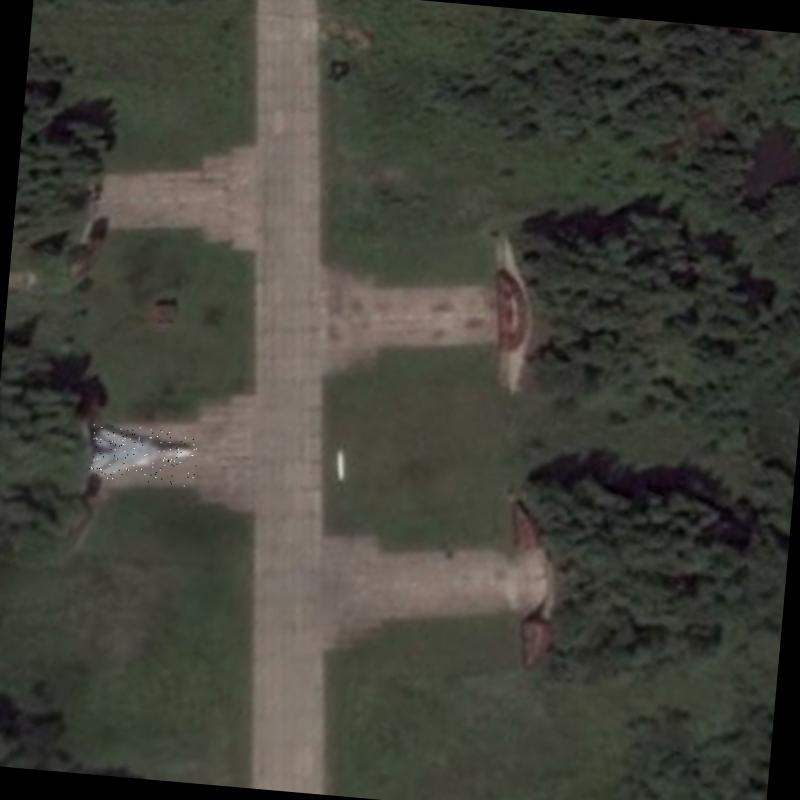A20: (87, 423, 199, 488)
